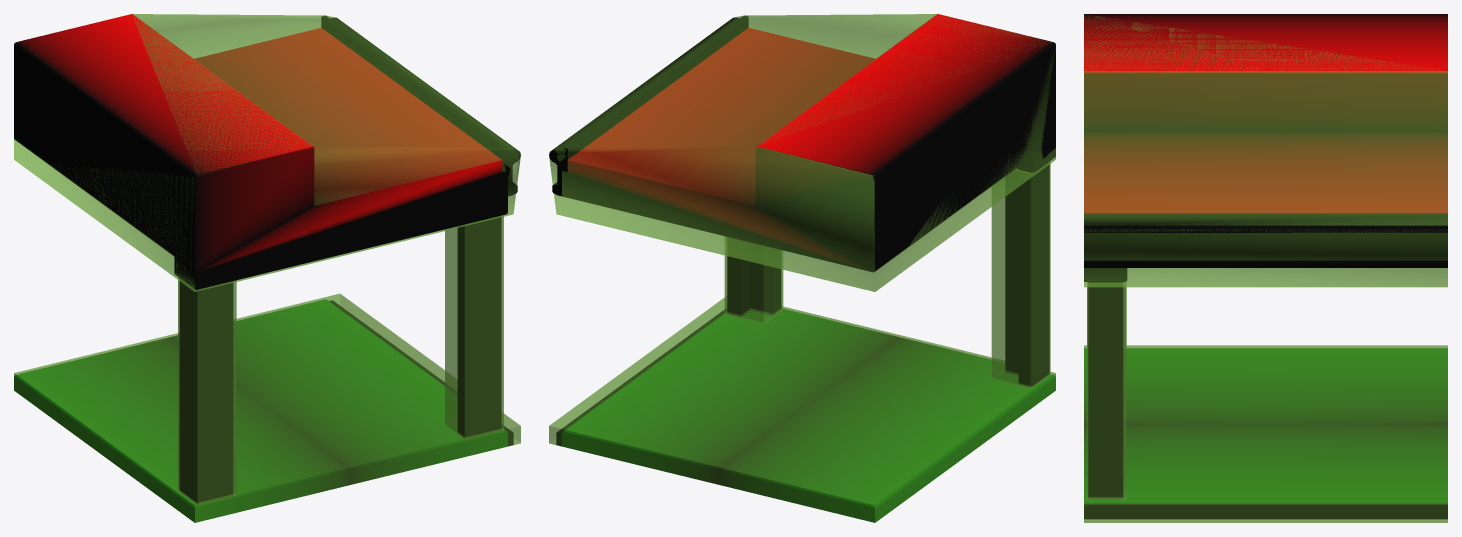
File: M_md_Stall2_1m_02.fbx
The picture shows the model from 3 angles, left to right: view 1: azimuth 30°, elevation 25°; view 2: azimuth 150°, elevation 25°; view 3: azimuth 270°, elevation 25°; orthographic projection.
Parts seen in each view (by area): view 1: M_md_Stall2_1m_02_LOD0, M_md_Stall2_1m_02_col_04, M_md_Stall2_1m_02_col_01, M_md_Stall2_1m_02_col_02, M_md_Stall2_1m_02_col_03; view 2: M_md_Stall2_1m_02_LOD0, M_md_Stall2_1m_02_col_04, M_md_Stall2_1m_02_col_01, M_md_Stall2_1m_02_col_02, M_md_Stall2_1m_02_col_03; view 3: M_md_Stall2_1m_02_LOD0, M_md_Stall2_1m_02_col_01, M_md_Stall2_1m_02_col_04, M_md_Stall2_1m_02_col_03.
Part boxes in pixels (<box>): M_md_Stall2_1m_02_LOD0: <box>14,14,520,522</box>; M_md_Stall2_1m_02_col_04: <box>14,293,520,522</box>; M_md_Stall2_1m_02_col_01: <box>14,14,520,291</box>; M_md_Stall2_1m_02_col_02: <box>178,278,236,504</box>; M_md_Stall2_1m_02_col_03: <box>445,215,503,439</box>; M_md_Stall2_1m_02_LOD0: <box>549,14,1055,522</box>; M_md_Stall2_1m_02_col_04: <box>549,296,1055,522</box>; M_md_Stall2_1m_02_col_01: <box>549,14,1055,291</box>; M_md_Stall2_1m_02_col_02: <box>991,163,1050,389</box>; M_md_Stall2_1m_02_col_03: <box>724,237,783,323</box>; M_md_Stall2_1m_02_LOD0: <box>1084,14,1447,519</box>; M_md_Stall2_1m_02_col_01: <box>1084,16,1447,287</box>; M_md_Stall2_1m_02_col_04: <box>1084,345,1447,522</box>; M_md_Stall2_1m_02_col_03: <box>1087,282,1126,499</box>.
Size of what is drawn, in the model's own units: 104 by 106 by 100.
